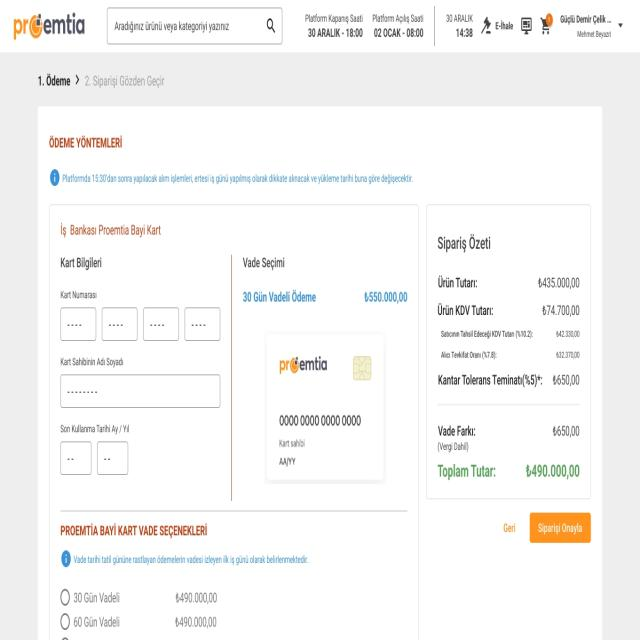QLabel: (61, 172, 414, 186), (73, 554, 309, 566), (59, 522, 209, 540), (58, 219, 163, 239), (438, 372, 544, 390), (46, 133, 124, 151), (437, 460, 497, 481), (242, 289, 317, 305), (440, 328, 534, 340), (436, 233, 492, 253), (524, 462, 581, 481), (436, 300, 496, 318), (59, 355, 124, 369), (536, 520, 583, 538), (60, 423, 130, 435), (363, 288, 408, 306), (174, 589, 218, 607), (437, 273, 480, 291), (241, 254, 286, 271), (440, 349, 498, 362), (60, 254, 104, 271), (307, 27, 363, 40), (560, 12, 612, 26), (537, 275, 581, 291), (175, 614, 218, 630), (436, 423, 477, 439), (305, 13, 364, 24), (372, 12, 424, 24), (541, 303, 580, 318), (374, 28, 424, 38), (552, 373, 580, 389), (436, 441, 470, 454), (576, 28, 612, 40), (59, 289, 98, 300), (551, 424, 580, 438), (555, 329, 582, 340), (446, 12, 473, 23), (499, 520, 517, 536), (555, 349, 581, 360), (495, 19, 514, 32), (455, 26, 473, 38)
VAppBar: (0, 0, 640, 52)
VBadge: (539, 12, 554, 36)
VBreadcrumbs: (36, 69, 167, 91)
VBtn: (528, 511, 592, 545), (491, 514, 526, 541)
VCard: (37, 103, 602, 640), (49, 203, 419, 640), (425, 203, 592, 502)
VDivider: (59, 507, 408, 515), (229, 252, 234, 503), (433, 4, 436, 48)
VIcon: (479, 15, 493, 36), (519, 15, 533, 36), (60, 549, 72, 569), (49, 168, 60, 188), (616, 21, 624, 29)
VImg: (264, 329, 387, 486), (13, 11, 85, 42)
VRadio: (60, 587, 121, 606), (60, 612, 120, 630)
VTextField: (107, 7, 283, 46), (61, 374, 220, 409), (60, 306, 97, 342), (143, 306, 179, 342), (184, 306, 220, 342), (102, 307, 138, 341), (60, 442, 92, 476), (98, 440, 128, 476)
